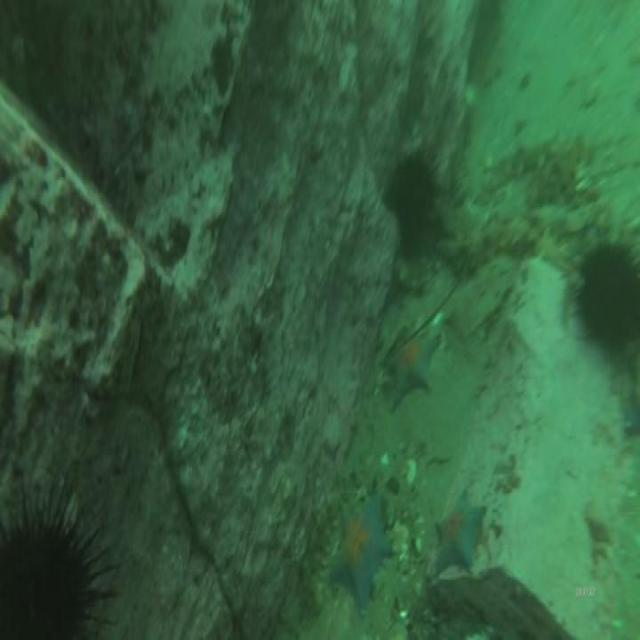echinus: (0, 490, 126, 640), (567, 228, 640, 364), (382, 141, 440, 267)
holothurian: (454, 207, 540, 261), (476, 128, 560, 182)
starfish: (326, 488, 396, 618), (370, 324, 444, 412), (425, 482, 488, 585)
